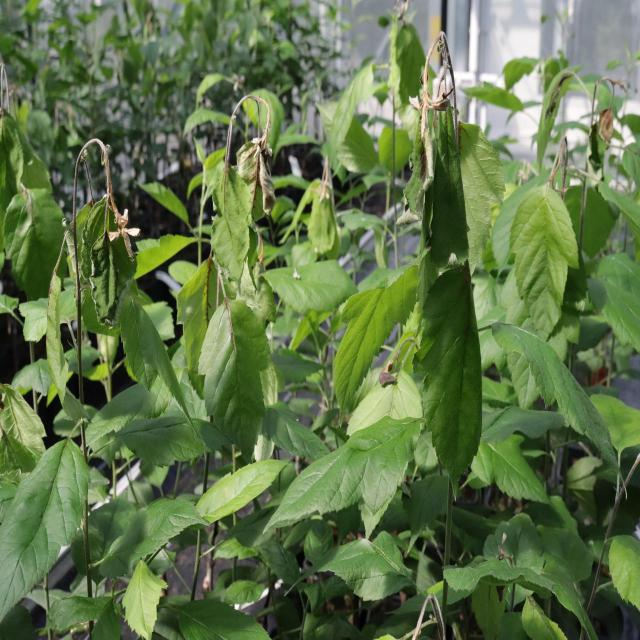-FireBlight-: (587, 78, 633, 154)
